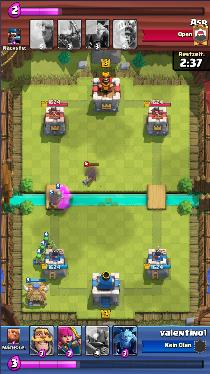ally_goblin_hut: (21, 282, 49, 308)
ally_musketeer: (48, 194, 63, 211)
ally_spear_goblin: (41, 235, 55, 246), (32, 254, 44, 265), (54, 191, 65, 201), (37, 245, 47, 255)
enemy_musketeer: (83, 167, 97, 185)
